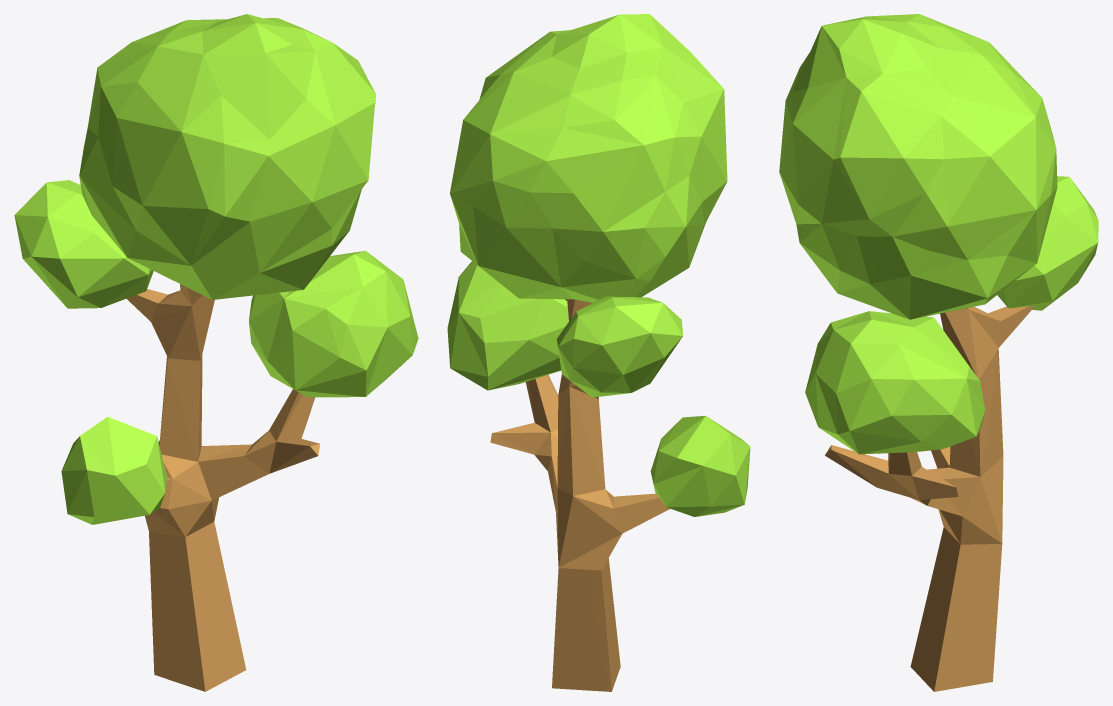
File: Tree.fbx
3 renders of one model, left to right at view 1: azimuth 30°, elevation 25°; view 2: azimuth 150°, elevation 25°; view 3: azimuth 270°, elevation 25°, orthographic. The views are drawn at different scales.
Parts seen in each view (by area): view 1: Tree1; view 2: Tree1; view 3: Tree1.
Boxes of the visible parts, x1,y1,x2,y2 form: Tree1: [14, 14, 418, 691]; Tree1: [447, 14, 750, 691]; Tree1: [779, 14, 1098, 691].
Size of the model in its own units: 2.63 by 5.36 by 2.35.
